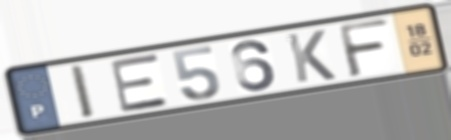5: (169, 43, 223, 102)
6: (229, 39, 278, 92)
E: (107, 51, 173, 115)
F: (335, 17, 392, 80)
I: (67, 62, 99, 121)
K: (283, 27, 339, 85)
